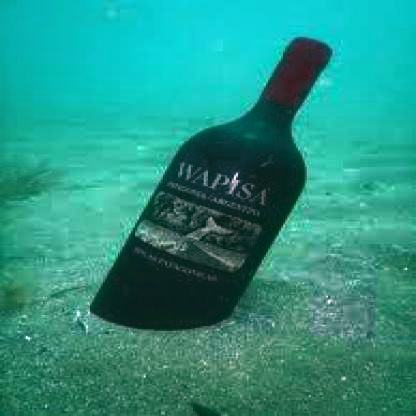gbottle: (93, 37, 332, 332)
